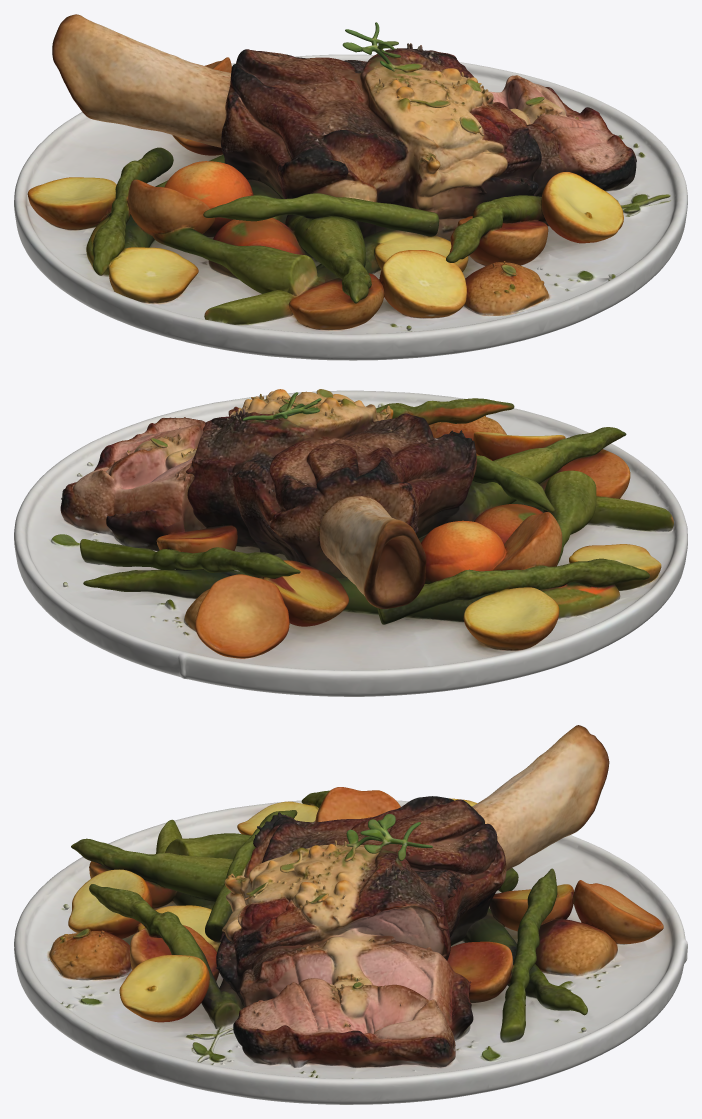
Rendered from ctelette-de-veau.glb.
The picture shows the model from 3 angles, top to bottom: view 1: azimuth 30°, elevation 25°; view 2: azimuth 150°, elevation 25°; view 3: azimuth 270°, elevation 25°; orthographic projection.
Parts seen in each view (by area): view 1: tripo_node_38c01ca4-4f9f-4d89-9bd7-6ef43b236e44; view 2: tripo_node_38c01ca4-4f9f-4d89-9bd7-6ef43b236e44; view 3: tripo_node_38c01ca4-4f9f-4d89-9bd7-6ef43b236e44.
Part boxes in pixels (x1,y1,x2,y2): tripo_node_38c01ca4-4f9f-4d89-9bd7-6ef43b236e44: (14, 14, 687, 360); tripo_node_38c01ca4-4f9f-4d89-9bd7-6ef43b236e44: (14, 389, 687, 696); tripo_node_38c01ca4-4f9f-4d89-9bd7-6ef43b236e44: (14, 725, 687, 1104).
Size of the model in its own units: 0.9985 by 0.2642 by 1.
1 material, 1 textured.
